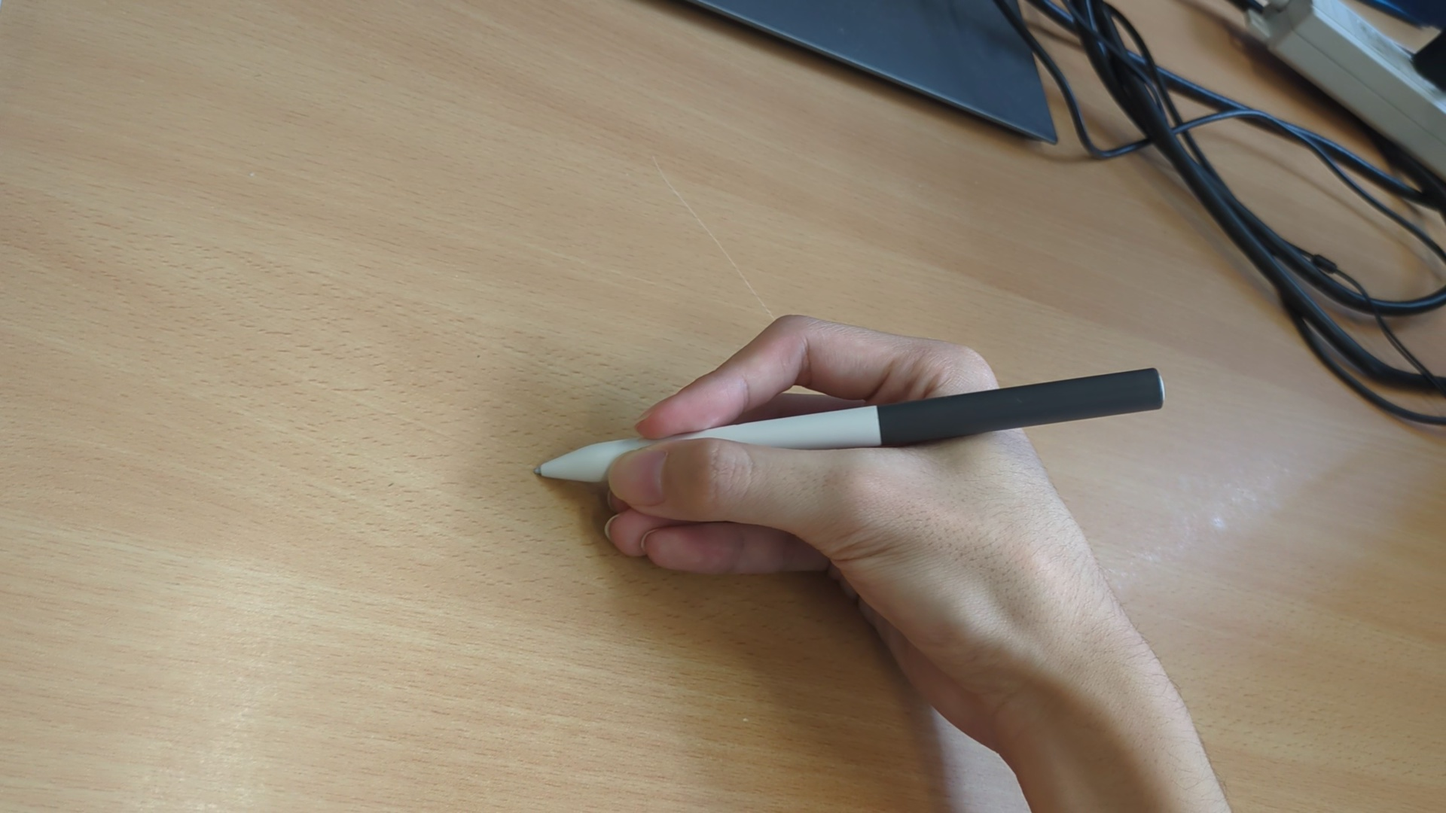pen: (528, 364, 1171, 489)
tip: (528, 455, 566, 486)
